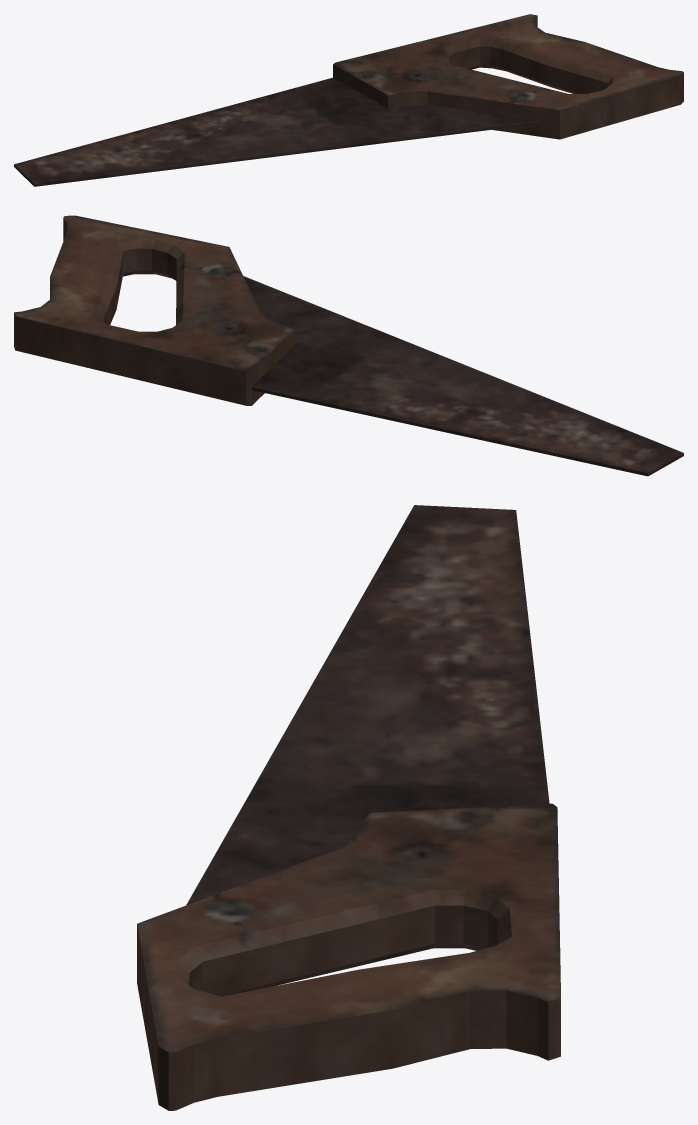
File: hand_saw_1.obj
3 views of the same model, one above another, from view 1: azimuth 30°, elevation 25°; view 2: azimuth 150°, elevation 25°; view 3: azimuth 270°, elevation 25° (orthographic). The views are drawn at different scales.
Parts seen in each view (by area): view 1: hand_saw_1; view 2: hand_saw_1; view 3: hand_saw_1.
Part boxes in pixels (box(x1,y1,x2,y2)): hand_saw_1: box(14, 14, 683, 186); hand_saw_1: box(14, 215, 683, 476); hand_saw_1: box(137, 505, 560, 1110).
Bounding box in the file's own units: 22.29 × 1.06 × 6.96.
1 material, 1 textured.
